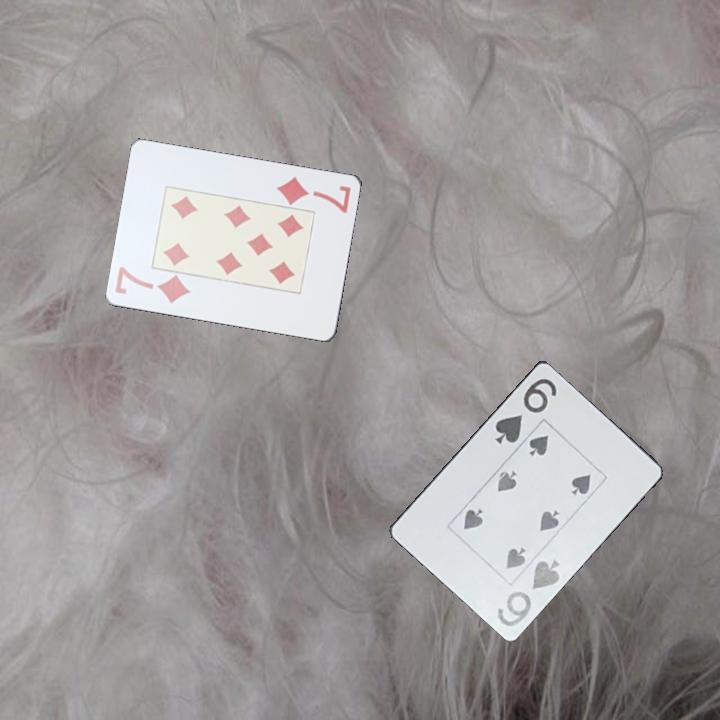6s: (493, 555, 563, 629), (490, 374, 560, 447)
7d: (273, 172, 354, 216), (112, 263, 194, 306)
